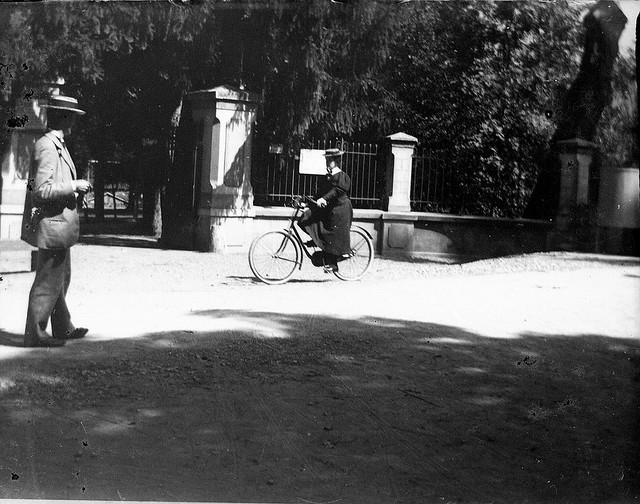bicycle: (246, 193, 376, 286)
